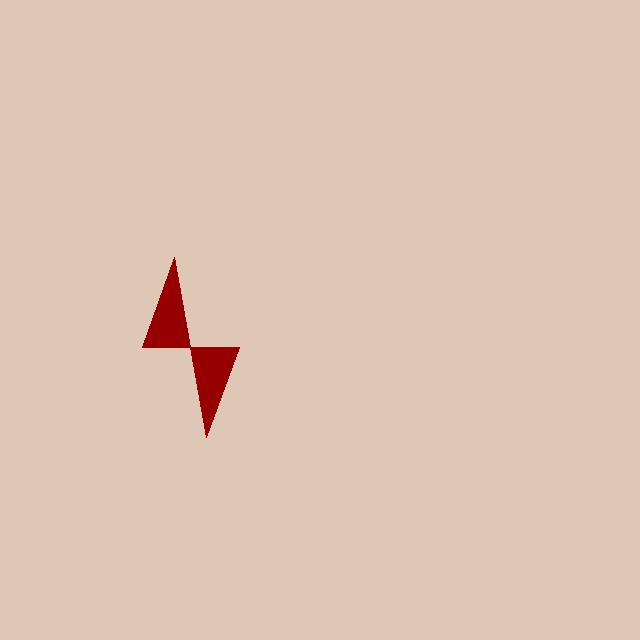laceration: (142, 257, 239, 437)
